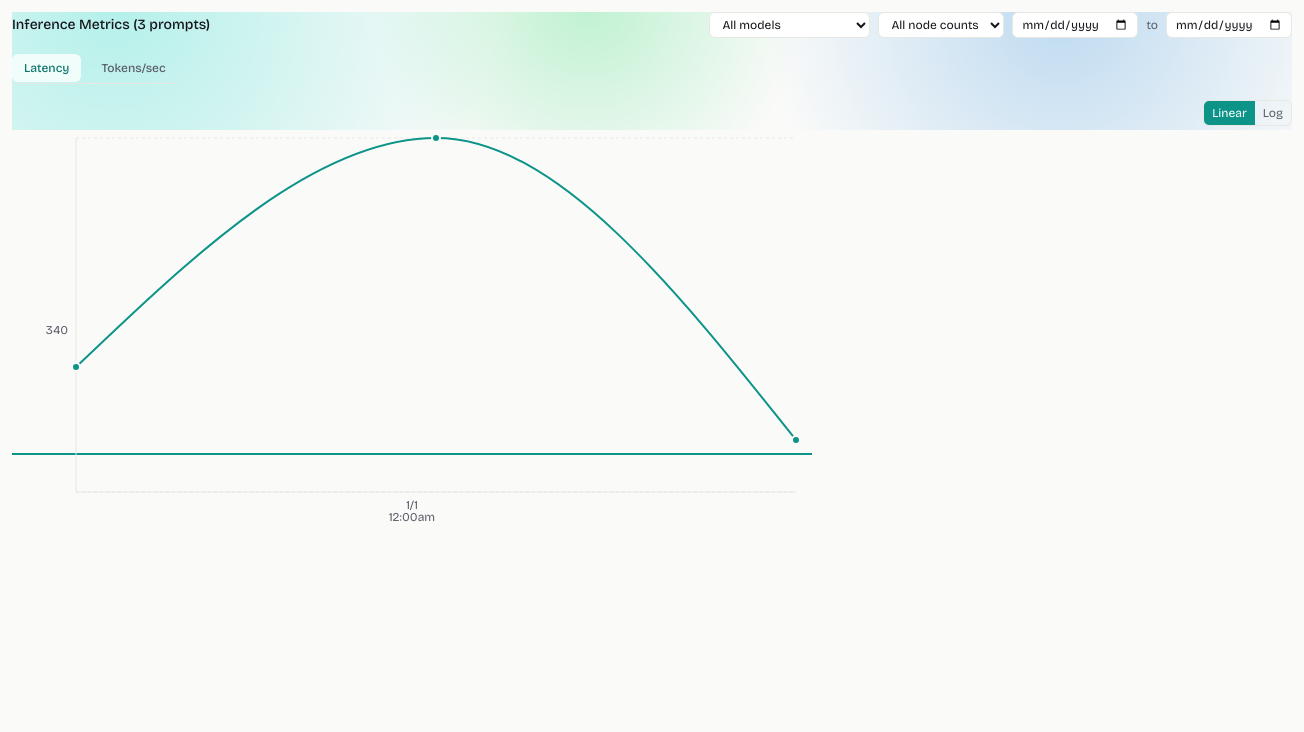
MetricsPanel › filters by node count
Select "1 node" in the dropdown named "Filter by node count": (941, 25) top-left (878, 12), bottom-right (1004, 38)
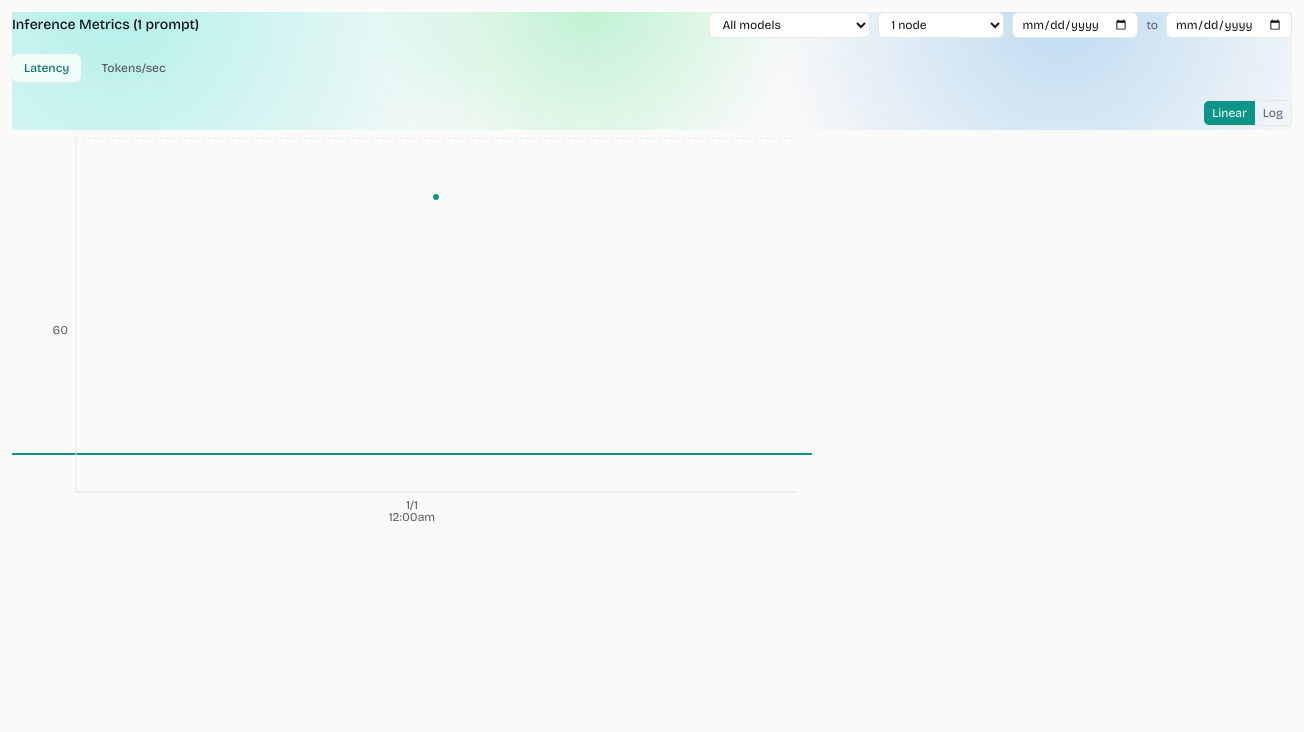
expect the heading "Inference Metrics (1 prompt)" is shown: met, box top-left (12, 15), bottom-right (199, 35)
